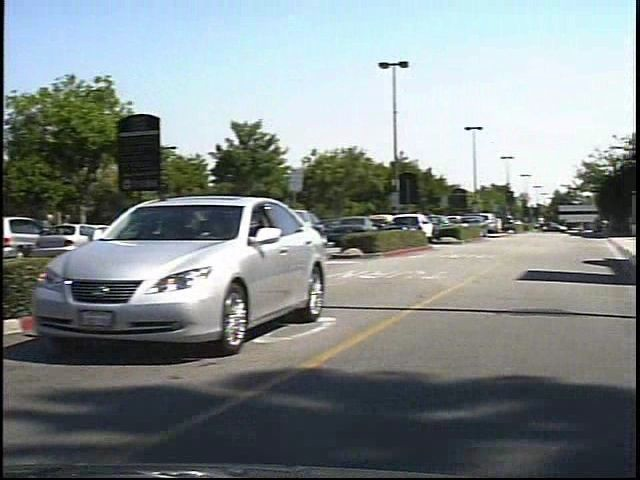person: (548, 215, 561, 237)
